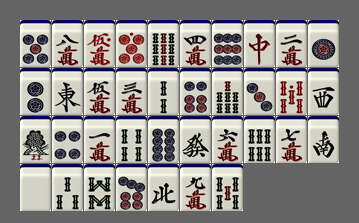0m: (84, 20, 115, 67)
0p: (116, 20, 147, 67)
0s: (276, 68, 307, 115)
1m: (84, 116, 115, 163)
1p: (308, 20, 339, 67)
1s: (20, 116, 51, 163)
1z: (52, 68, 83, 115)
2m: (276, 20, 307, 67)
2p: (20, 68, 51, 115)
2s: (148, 68, 179, 115)
2z: (308, 116, 339, 163)
3m: (116, 68, 147, 115)
3p: (244, 68, 275, 115)
3s: (52, 164, 83, 211)
3z: (308, 68, 339, 115)
4m: (180, 20, 211, 67)
4p: (52, 116, 83, 163)
4s: (116, 116, 147, 163)
4z: (148, 164, 179, 211)
5m: (84, 68, 115, 115)
5p: (20, 20, 51, 67)
5s: (212, 164, 243, 211)
5z: (20, 164, 51, 211)
6m: (212, 116, 243, 163)
6p: (180, 68, 211, 115)
6s: (244, 116, 275, 163)
6z: (180, 116, 211, 163)
7m: (276, 116, 307, 163)
7p: (116, 164, 147, 211)
7s: (212, 68, 243, 115)
7z: (244, 20, 275, 67)
8m: (52, 20, 83, 67)
8p: (148, 116, 179, 163)
8s: (84, 164, 115, 211)
9m: (180, 164, 211, 211)
9p: (212, 20, 243, 67)
9s: (148, 20, 179, 67)
